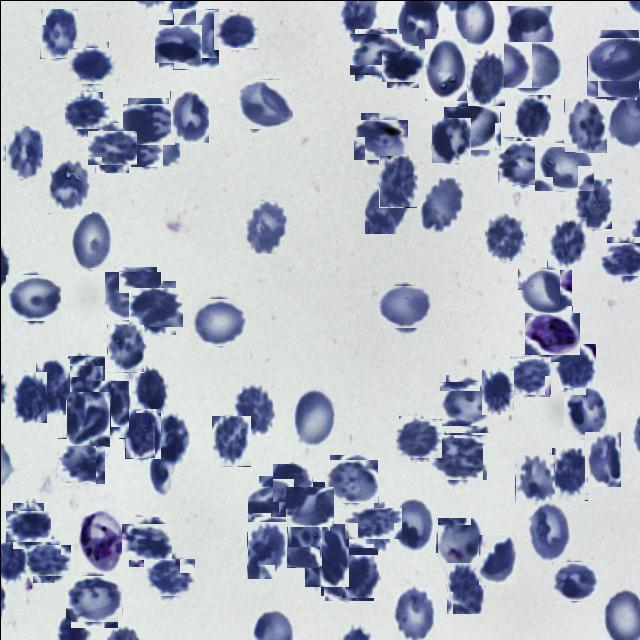red blood cell: (237, 76, 290, 130), (536, 140, 590, 193), (505, 5, 554, 63), (322, 545, 375, 598), (504, 38, 558, 90), (172, 8, 218, 69), (304, 523, 348, 586), (192, 296, 245, 348), (105, 268, 158, 320), (431, 431, 483, 483), (68, 572, 120, 624), (291, 389, 336, 448), (424, 38, 466, 100), (7, 271, 58, 322), (590, 33, 640, 85), (442, 378, 493, 428), (519, 266, 569, 316), (447, 102, 497, 152), (587, 48, 637, 98), (434, 516, 480, 570), (69, 211, 111, 270), (528, 502, 570, 561), (47, 157, 91, 213), (420, 178, 464, 234), (380, 282, 430, 331), (65, 391, 109, 446), (390, 497, 432, 554), (245, 520, 286, 578), (563, 98, 606, 153), (252, 481, 302, 528), (392, 586, 435, 640), (130, 120, 178, 168), (498, 137, 546, 185), (327, 456, 375, 504), (562, 387, 606, 439), (243, 200, 286, 253), (124, 100, 171, 147), (356, 116, 404, 162), (90, 380, 128, 438), (57, 438, 104, 484), (352, 31, 398, 78), (546, 216, 586, 270), (364, 184, 408, 233), (132, 284, 178, 330), (146, 554, 192, 599), (169, 90, 208, 143), (483, 213, 525, 262), (4, 125, 42, 179), (210, 415, 250, 466), (550, 447, 588, 500), (236, 384, 275, 435), (584, 431, 620, 486), (286, 511, 322, 566), (287, 483, 331, 528), (378, 155, 416, 207), (446, 562, 484, 614), (554, 343, 595, 391), (467, 52, 504, 105), (124, 519, 168, 563), (350, 500, 394, 544), (514, 454, 554, 502), (35, 358, 69, 414), (39, 8, 77, 58), (478, 534, 516, 584), (574, 178, 611, 228), (552, 559, 595, 602), (396, 416, 439, 459), (430, 116, 470, 162), (124, 408, 160, 458), (514, 94, 552, 141), (66, 355, 104, 402), (11, 371, 46, 422), (106, 324, 143, 372), (69, 44, 111, 86), (90, 126, 132, 168), (214, 9, 256, 51), (156, 22, 198, 64), (154, 415, 189, 463), (510, 356, 550, 396), (272, 462, 312, 502), (341, 554, 378, 597), (29, 541, 68, 579), (8, 506, 47, 544), (603, 239, 640, 279), (68, 94, 106, 132), (481, 369, 513, 414), (135, 367, 165, 412), (384, 48, 421, 84)
trophozoite: (78, 510, 124, 571), (527, 308, 576, 358)
